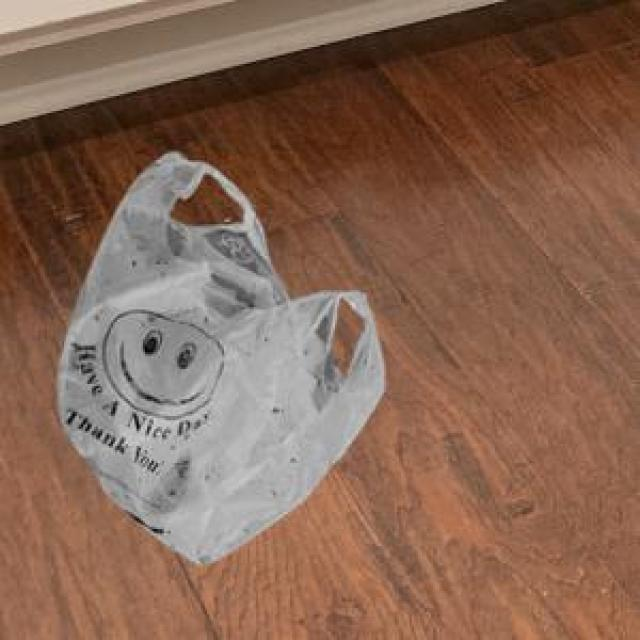plastic: (40, 135, 402, 592)
